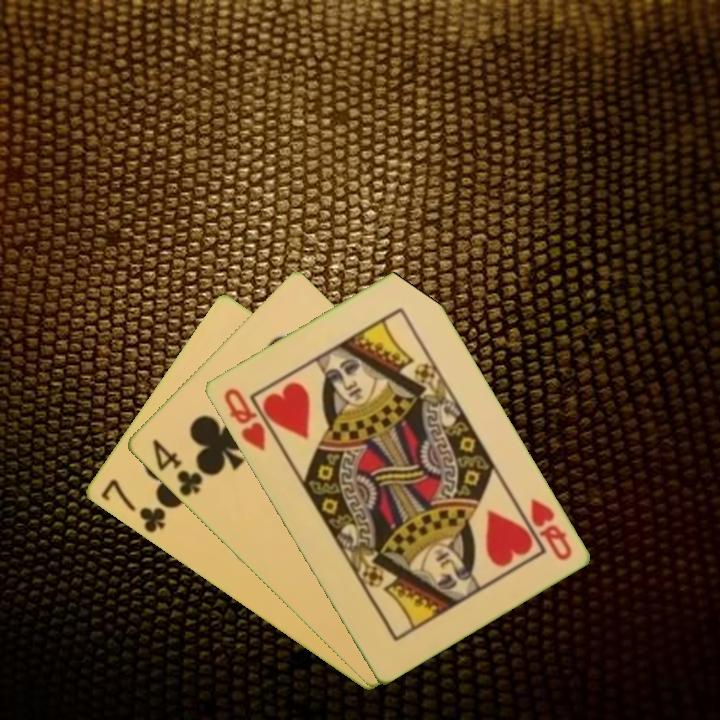4c: (148, 435, 205, 500)
7c: (96, 475, 169, 536)
Qh: (219, 384, 268, 454), (526, 494, 575, 564)
